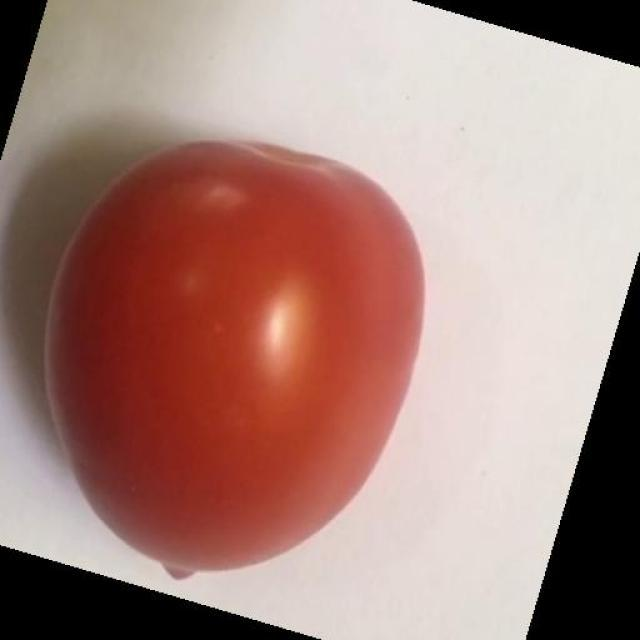Fresh Tomato: (22, 102, 444, 626)
